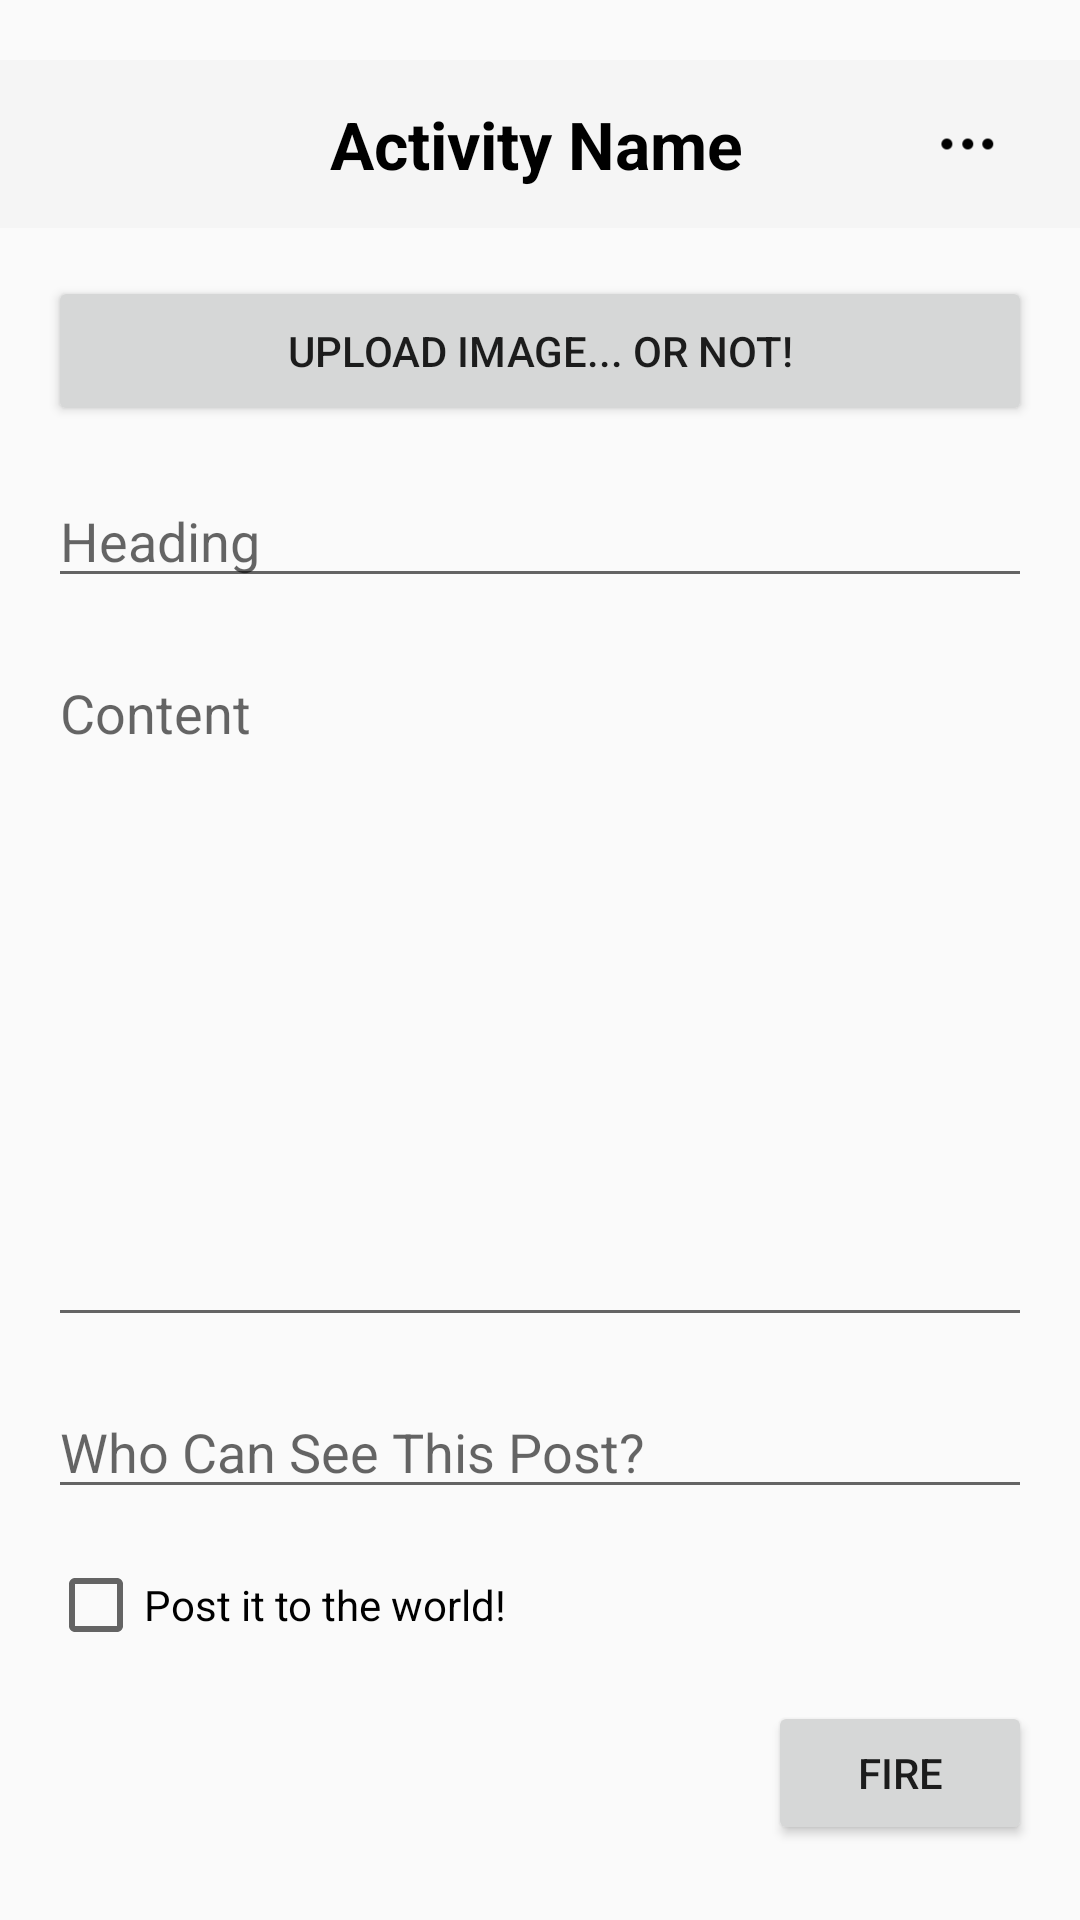

Screen size 1080*1920. Icon name, then its center in pixels as [x,y]:
navbar more: [967,144]
